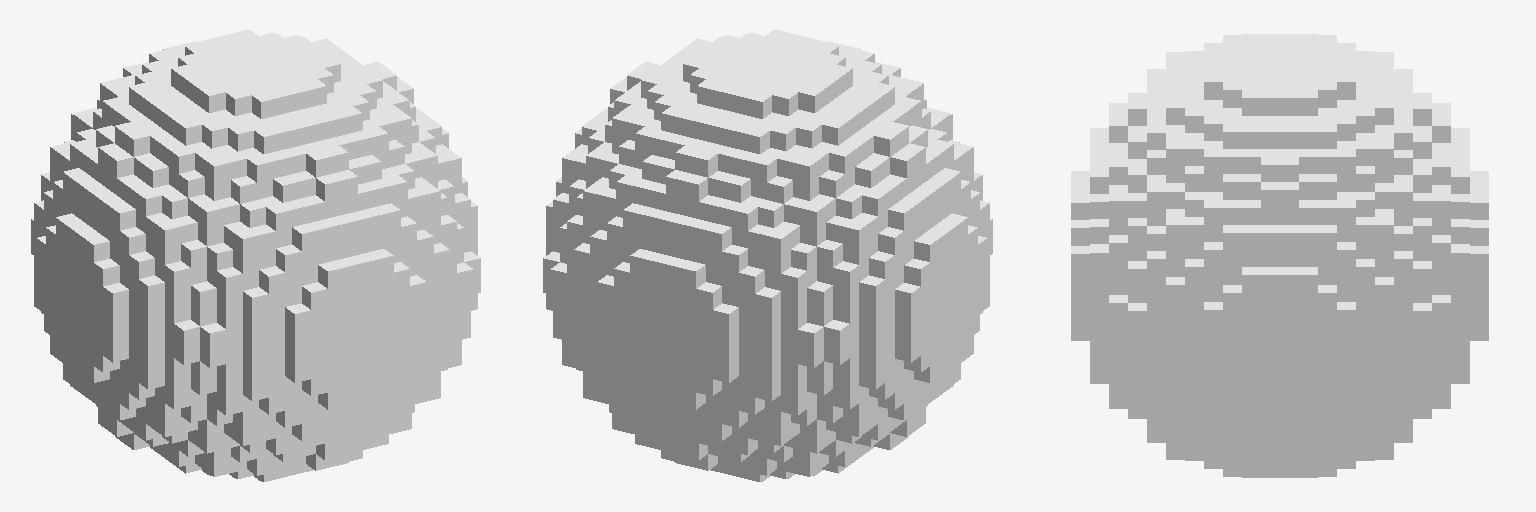
3 views of the same model, side by side, from view 1: azimuth 30°, elevation 25°; view 2: azimuth 150°, elevation 25°; view 3: azimuth 270°, elevation 25° (orthographic).
Visible parts, largest first — view 1: Bola_Mesh; view 2: Bola_Mesh; view 3: Bola_Mesh.
Part boxes in pixels (x1,y1,x2,y2): Bola_Mesh: (31, 30, 480, 481); Bola_Mesh: (543, 30, 992, 481); Bola_Mesh: (1071, 34, 1488, 477).
Bounding box in the file's own units: 2.2 × 2.2 × 2.2.
1 materials, 1 textured.